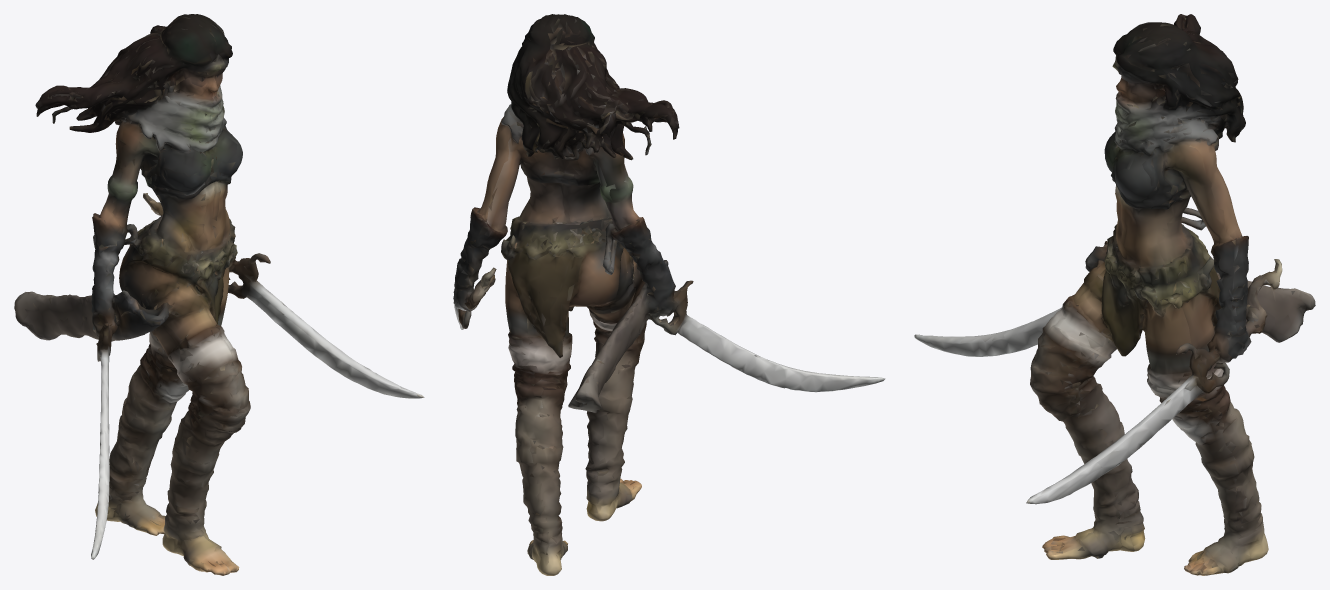
The model's file is Idorii_final.glb.
The picture shows the model from 3 angles, left to right: view 1: azimuth 30°, elevation 25°; view 2: azimuth 150°, elevation 25°; view 3: azimuth 270°, elevation 25°; orthographic projection. The views are drawn at different scales.
Visible parts, largest first — view 1: Mesh1.0; view 2: Mesh1.0; view 3: Mesh1.0.
Boxes of the visible parts, x1,y1,x2,y2 form: Mesh1.0: (14, 14, 424, 575); Mesh1.0: (453, 14, 885, 575); Mesh1.0: (914, 14, 1315, 575).
Size of the model in its own units: 1.3 by 1.7 by 1.12.
1 material, 1 textured.
